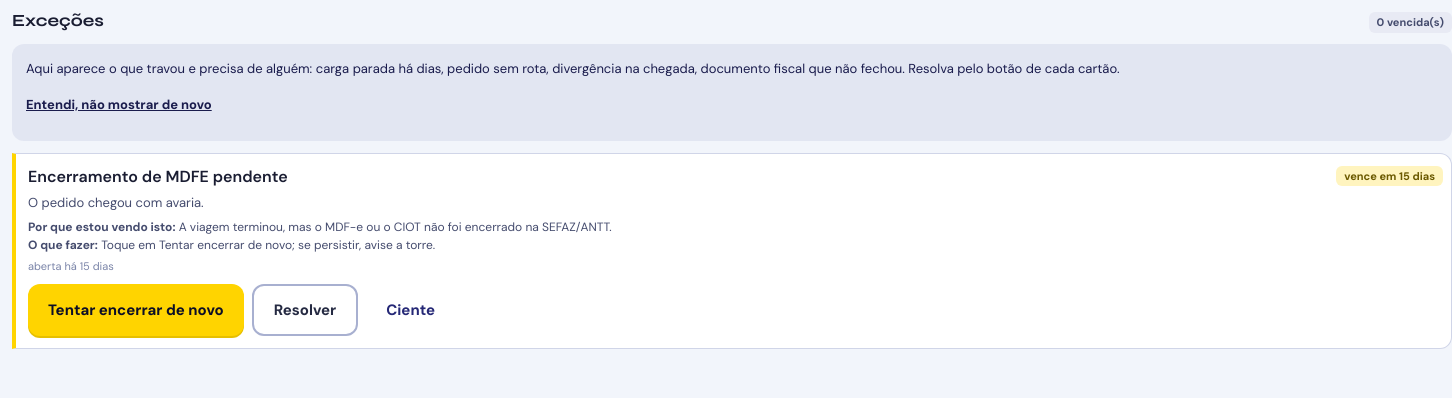
it: ExceptionsPage › encerramento fiscal pendente chama retryFiscalClosure
Click the button "Tentar encerrar de novo": (136, 310) [28,284,244,336]
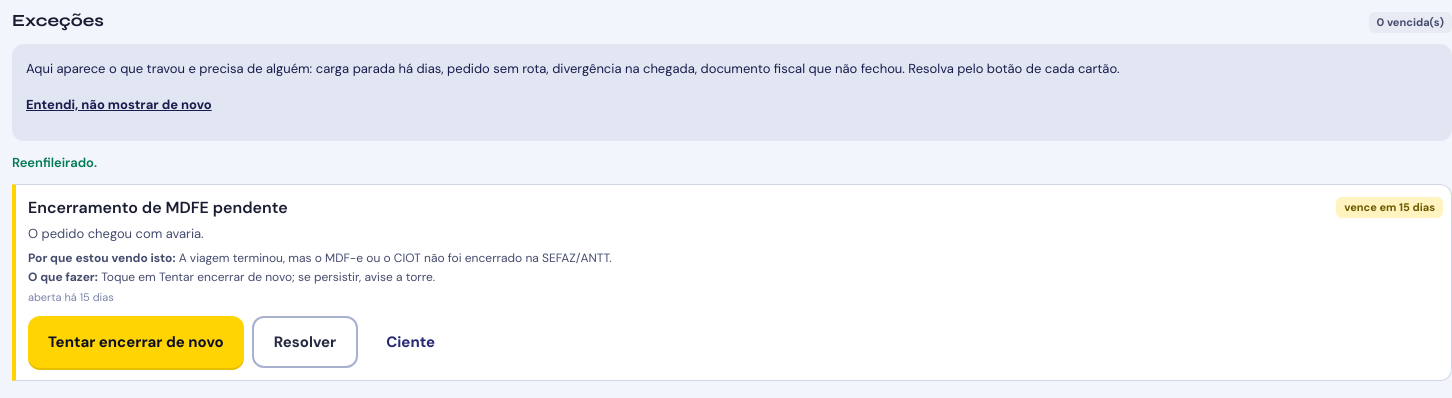
Expected: the text "Reenfileirado." is shown, [12,154,97,171]
